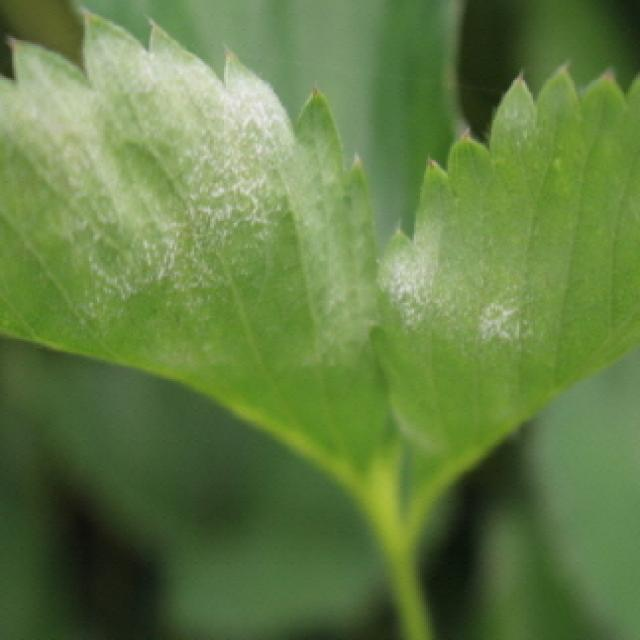Powdery Mildew Leaf: (0, 6, 399, 509), (370, 56, 640, 516)
